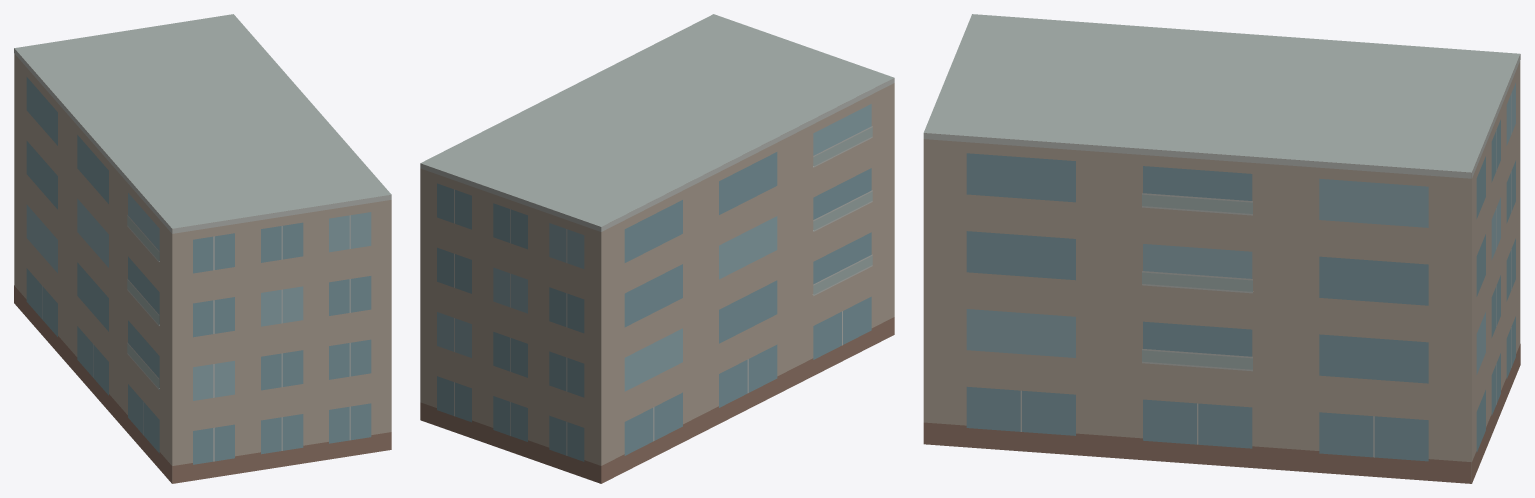
Rendered from survey-upis-32992852.glb.
The picture shows the model from 3 angles, left to right: view 1: azimuth 30°, elevation 25°; view 2: azimuth 150°, elevation 25°; view 3: azimuth 270°, elevation 25°; orthographic projection. The views are drawn at different scales.
Visible parts, largest first — view 1: survey-upis-32992852.tmp; view 2: survey-upis-32992852.tmp; view 3: survey-upis-32992852.tmp.
Boxes of the visible parts, bbox=[...] form: survey-upis-32992852.tmp: bbox=[14, 14, 391, 483]; survey-upis-32992852.tmp: bbox=[420, 14, 894, 483]; survey-upis-32992852.tmp: bbox=[923, 14, 1520, 483].
Bounding box in the file's own units: 13.33 × 12.2 × 21.21.
